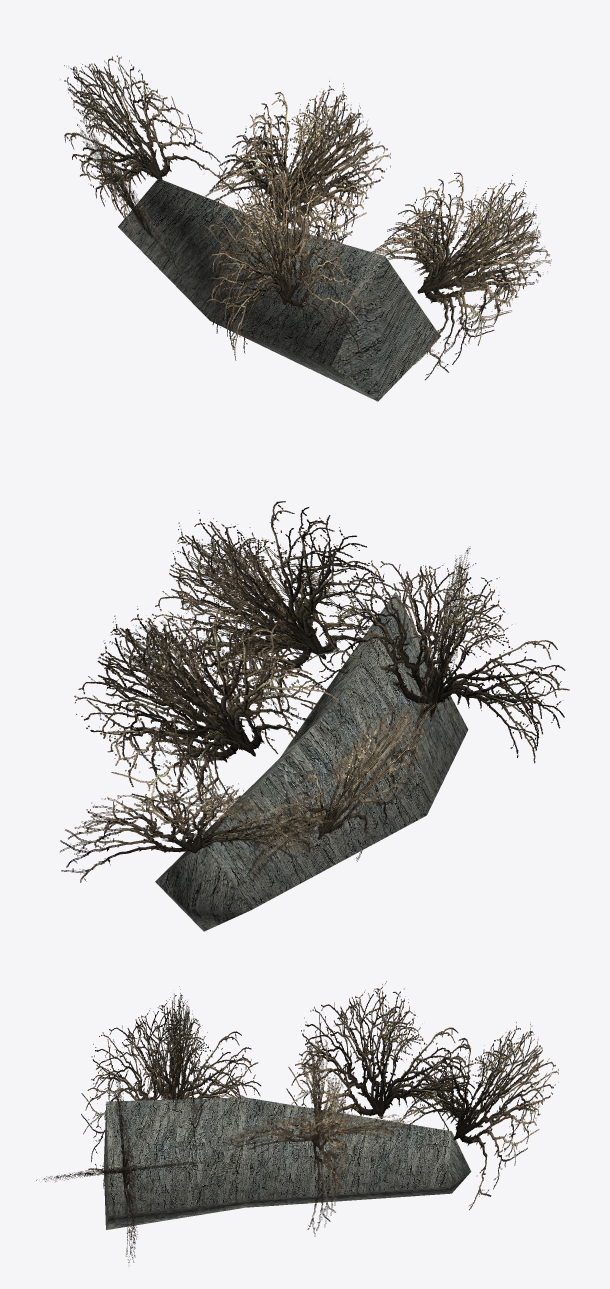
File: poi_all_lair_bramble_large_l4.fbx
3 renders of one model, top to bottom at view 1: azimuth 30°, elevation 25°; view 2: azimuth 150°, elevation 25°; view 3: azimuth 270°, elevation 25°, orthographic. The views are drawn at different scales.
Parts seen in each view (by area): view 1: mesh_node; view 2: mesh_node; view 3: mesh_node.
Boxes of the visible parts, <box> form: mesh_node: <box>60,55,551,401</box>; mesh_node: <box>60,501,569,931</box>; mesh_node: <box>36,981,558,1265</box>.
Size of the model in its own units: 5.07 by 3.49 by 7.03.
Materials: 2 (2 with a texture image).
